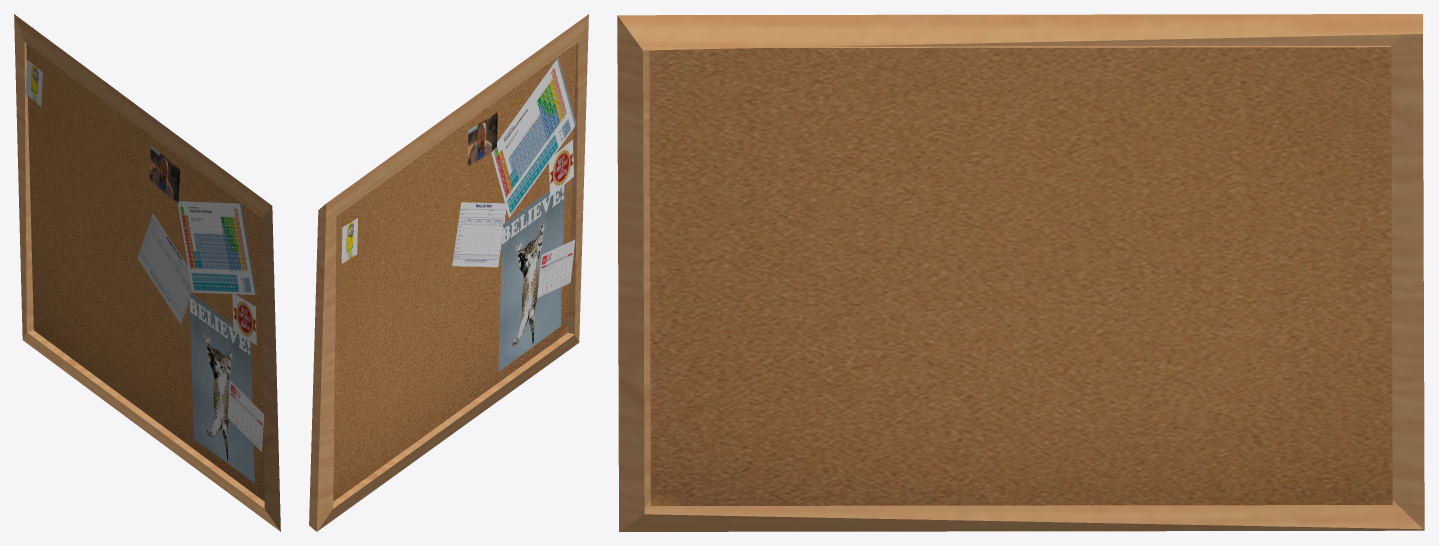
Rendered from MemeDesk.fbx.
The picture shows the model from 3 angles, left to right: view 1: azimuth 30°, elevation 25°; view 2: azimuth 150°, elevation 25°; view 3: azimuth 270°, elevation 25°; orthographic projection. The views are drawn at different scales.
Visible parts, largest first — view 1: Plane.001; view 2: Plane.001; view 3: Plane.001.
Part boxes in pixels (left/top/right/bottom): Plane.001: left=14, top=14, right=280, bottom=531; Plane.001: left=309, top=14, right=588, bottom=531; Plane.001: left=617, top=14, right=1424, bottom=531.
Size of the model in its own units: 7.94 by 126 by 180.
Materials: 1 (1 with a texture image).
